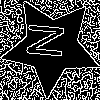N: (26, 21, 74, 61)
